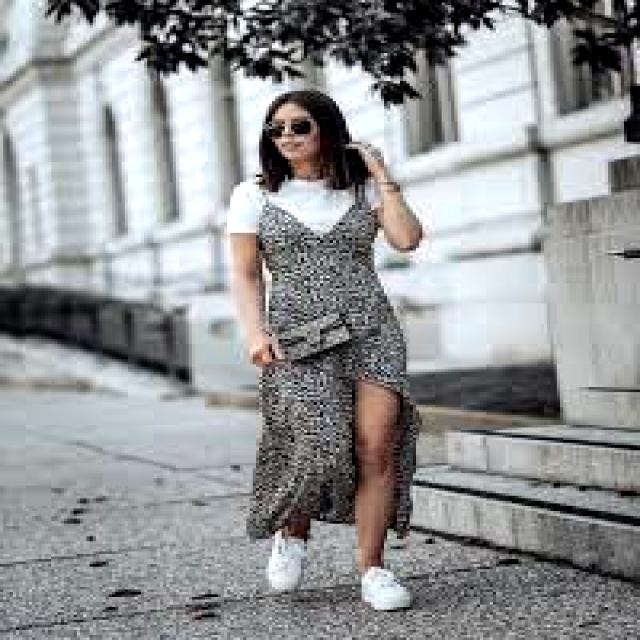dress: (247, 190, 419, 538)
foot-wear: (266, 532, 307, 591), (362, 567, 412, 609)
